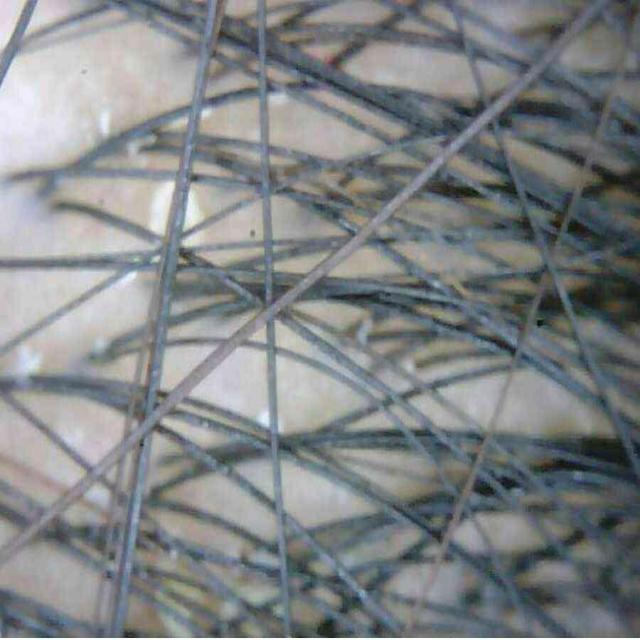d: (149, 180, 175, 236), (12, 344, 42, 377), (184, 189, 202, 229), (98, 106, 112, 138), (256, 408, 270, 427), (279, 417, 284, 432)
